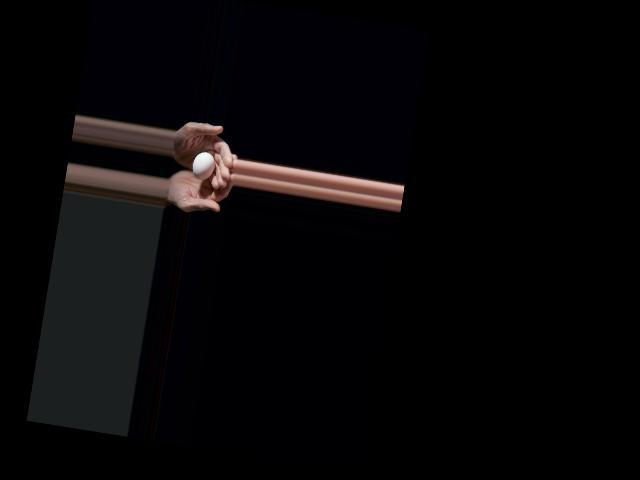egg: (190, 150, 217, 181)
